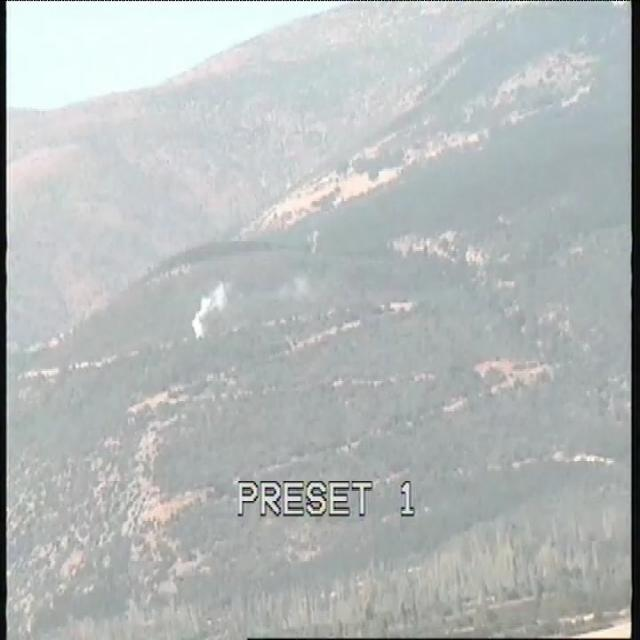smoke: (188, 274, 233, 341)
